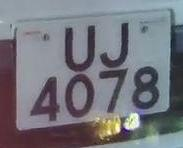0: (61, 71, 98, 119)
4: (27, 70, 64, 125)
7: (96, 67, 133, 116)
8: (128, 57, 164, 119)
J: (96, 15, 140, 70)
U: (58, 18, 103, 77)
